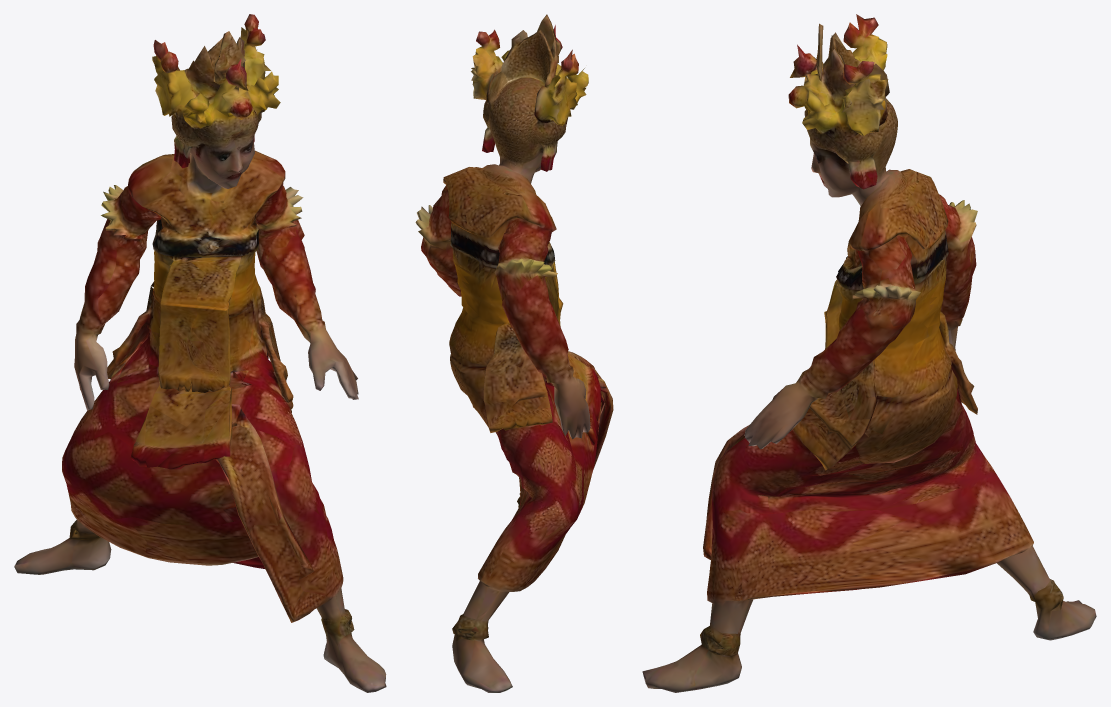
Rendered from penari_bali_idle.glb.
The picture shows the model from 3 angles, left to right: view 1: azimuth 30°, elevation 25°; view 2: azimuth 150°, elevation 25°; view 3: azimuth 270°, elevation 25°; orthographic projection. The views are drawn at different scales.
Parts seen in each view (by area): view 1: tripo_node_4535879c-507d-4244-876b-3f0821e756ba; view 2: tripo_node_4535879c-507d-4244-876b-3f0821e756ba; view 3: tripo_node_4535879c-507d-4244-876b-3f0821e756ba.
Boxes of the visible parts, x1,y1,x2,y2 form: tripo_node_4535879c-507d-4244-876b-3f0821e756ba: (14, 14, 386, 692); tripo_node_4535879c-507d-4244-876b-3f0821e756ba: (415, 14, 613, 692); tripo_node_4535879c-507d-4244-876b-3f0821e756ba: (642, 14, 1096, 692).
Bounding box in the file's own units: 32.67 × 94.37 × 61.66.
Materials: 1 (1 with a texture image).
